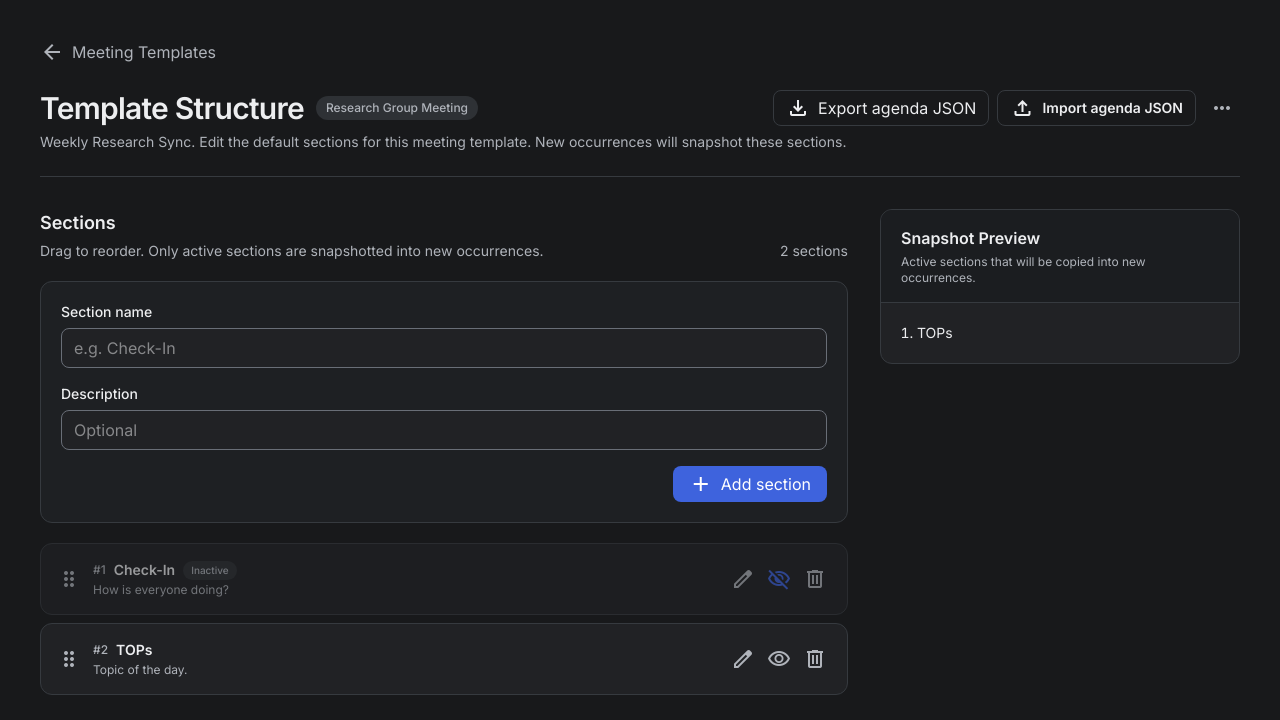
Test case: MeetingSeriesDetailPage section deletion › explains the missing agenda section when deleting the last active section
This screenshot has width=1280, height=720.
Expected: the heading "Template Structure" is shown, [40, 90, 304, 126]
Click the button named "Delete section TOPs": (815, 659) [799, 643, 831, 675]
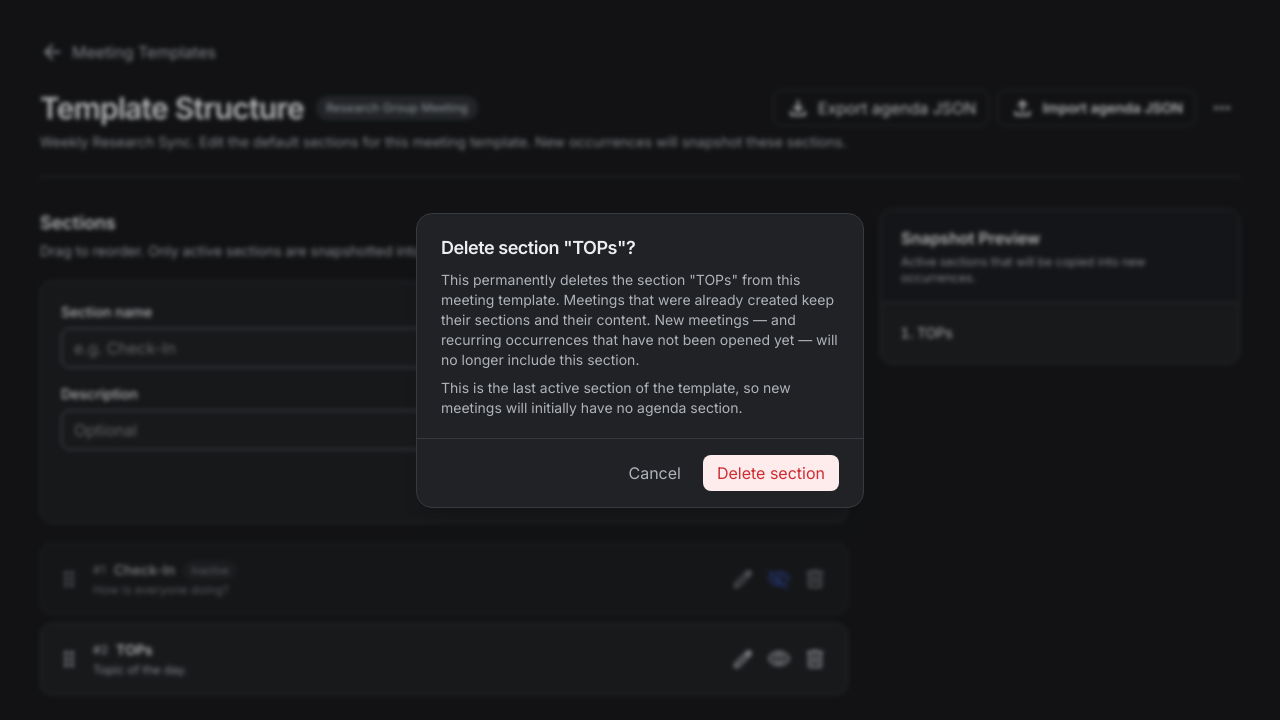
Expected: the text "will initially have no agenda section" is shown, [441, 378, 791, 416]
